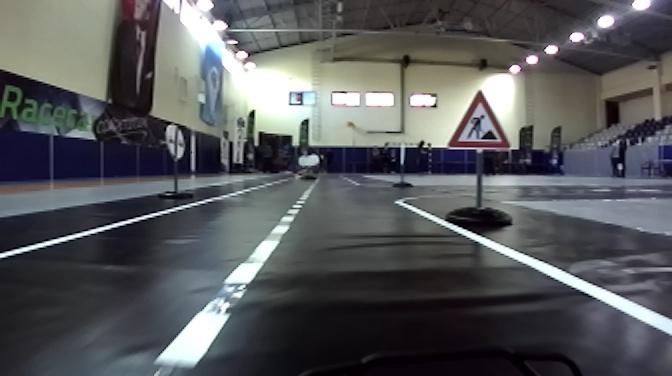yol_yapimi: (443, 88, 517, 148)
